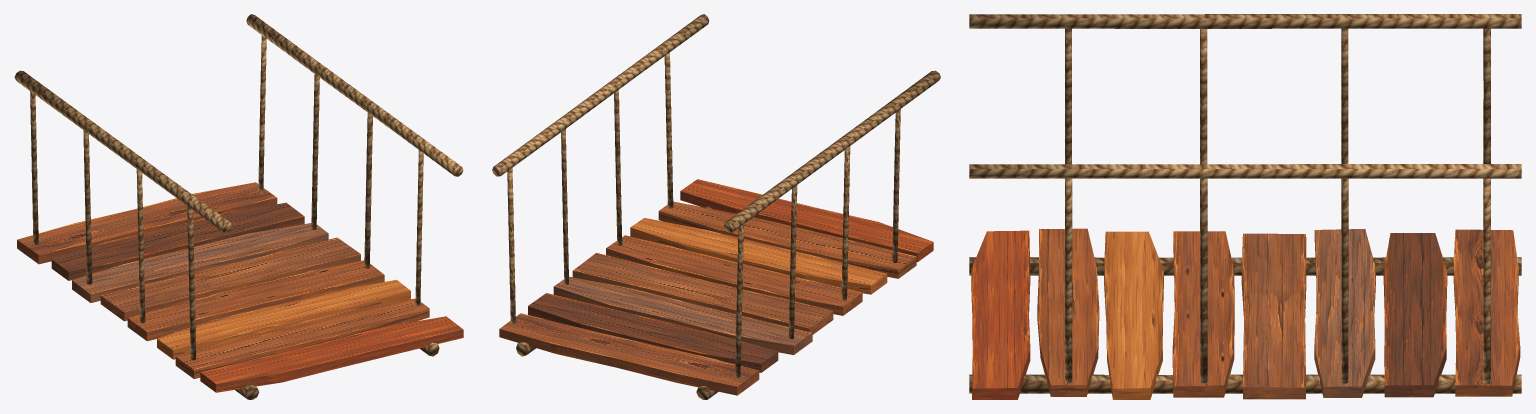
The model's file is bridge_plank.glb.
The picture shows the model from 3 angles, left to right: view 1: azimuth 30°, elevation 25°; view 2: azimuth 150°, elevation 25°; view 3: azimuth 270°, elevation 25°; orthographic projection. The views are drawn at different scales.
Parts seen in each view (by area): view 1: model; view 2: model; view 3: model.
Boxes of the visible parts, <box> form: model: <box>14,14,463,399</box>; model: <box>492,14,940,399</box>; model: <box>969,14,1521,399</box>.
Size of the model in its own units: 1.35 by 0.9772 by 1.99.
Materials: 11 (11 with a texture image).
